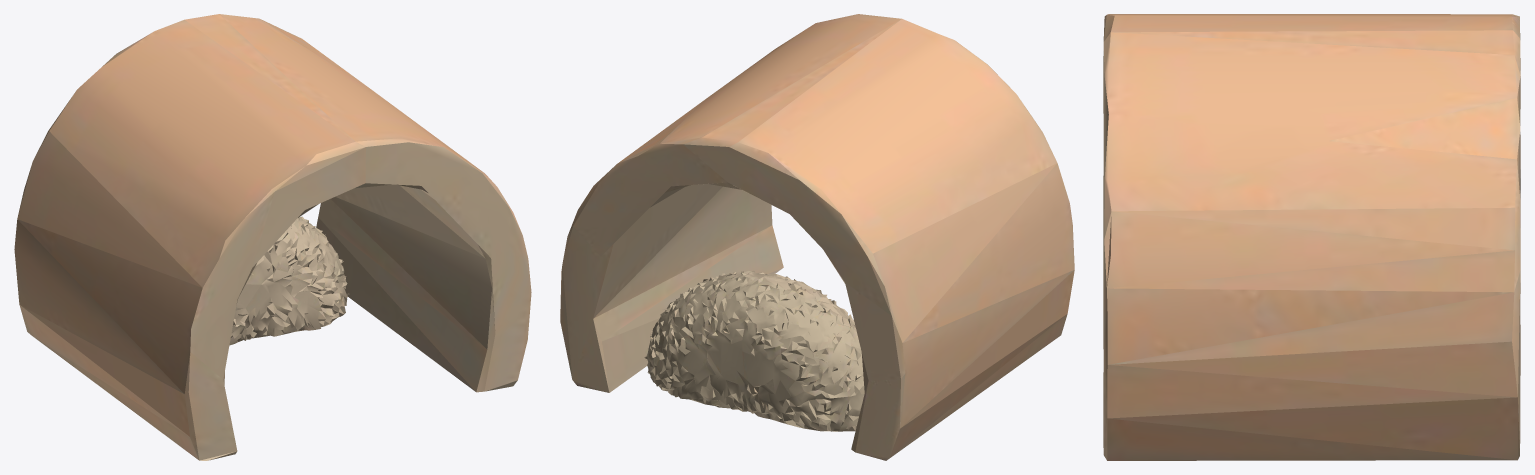
File: tunnel.2ce4550c.glb
3 renders of one model, left to right at view 1: azimuth 30°, elevation 25°; view 2: azimuth 150°, elevation 25°; view 3: azimuth 270°, elevation 25°, orthographic. The views are drawn at different scales.
Parts seen in each view (by area): view 1: output_unwrapped; view 2: output_unwrapped; view 3: output_unwrapped.
Boxes of the visible parts, bbox=[...] form: output_unwrapped: bbox=[14, 14, 531, 460]; output_unwrapped: bbox=[560, 14, 1074, 460]; output_unwrapped: bbox=[1103, 14, 1520, 460].
Bounding box in the file's own units: 1.9 × 1.48 × 1.65.
Materials: 1 (1 with a texture image).
